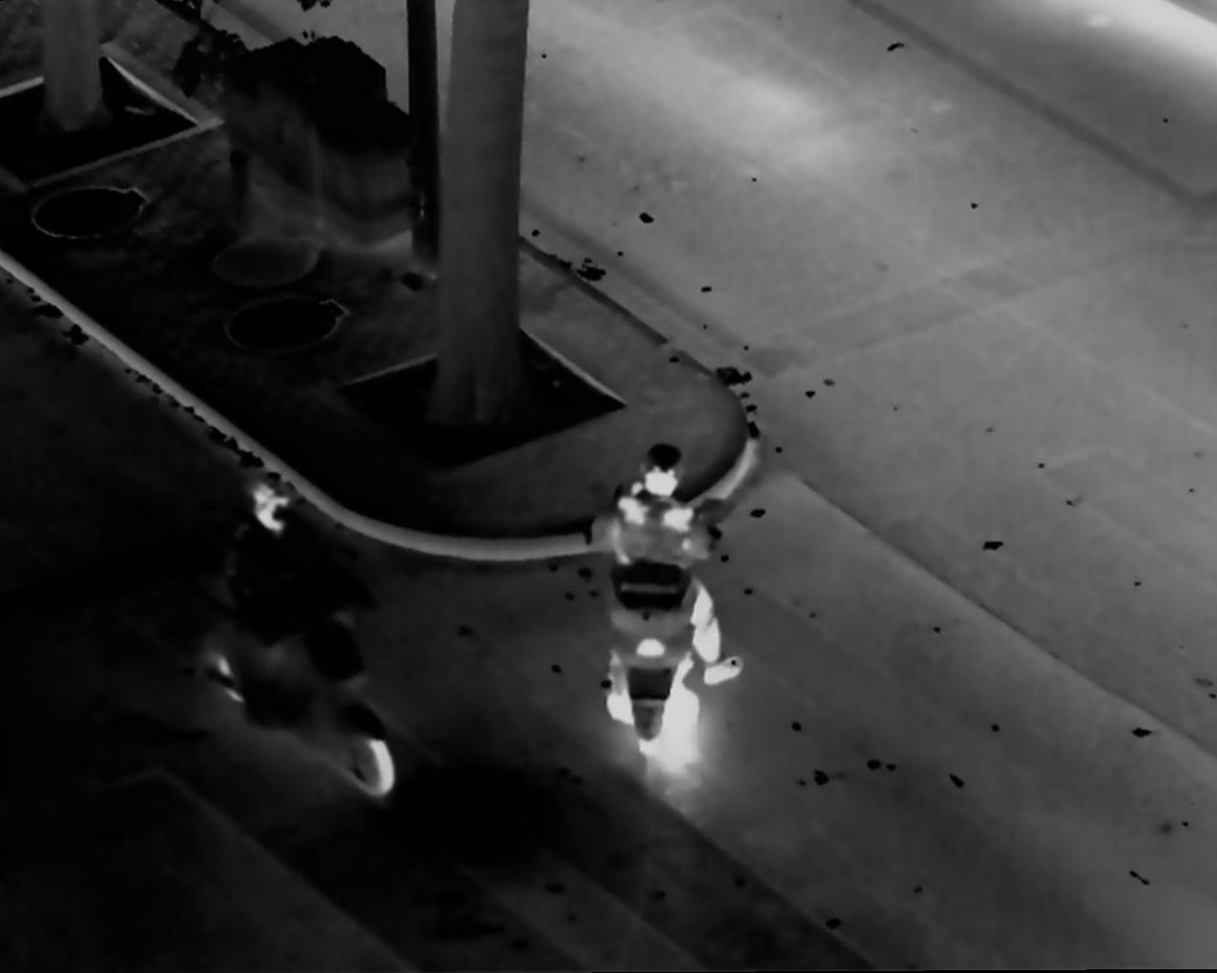person: (222, 478, 367, 753), (606, 438, 745, 713)
